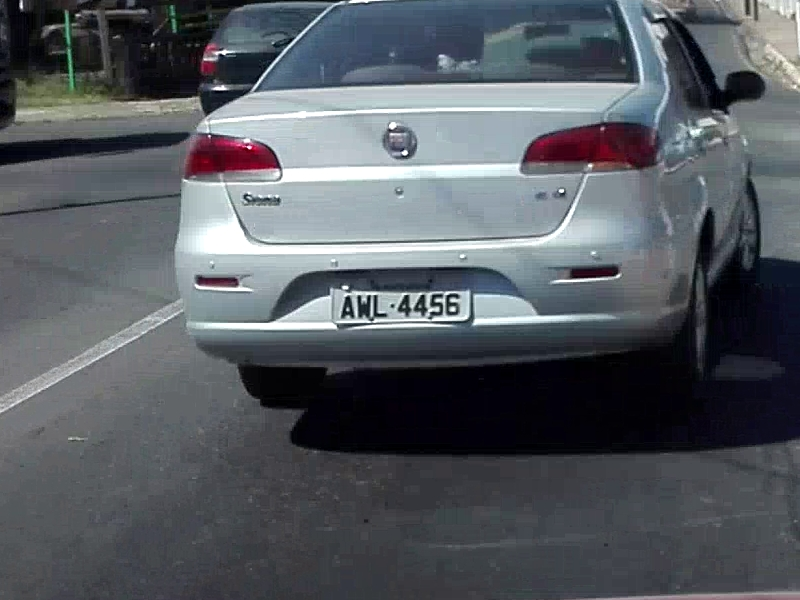placa: (329, 275, 472, 325)
